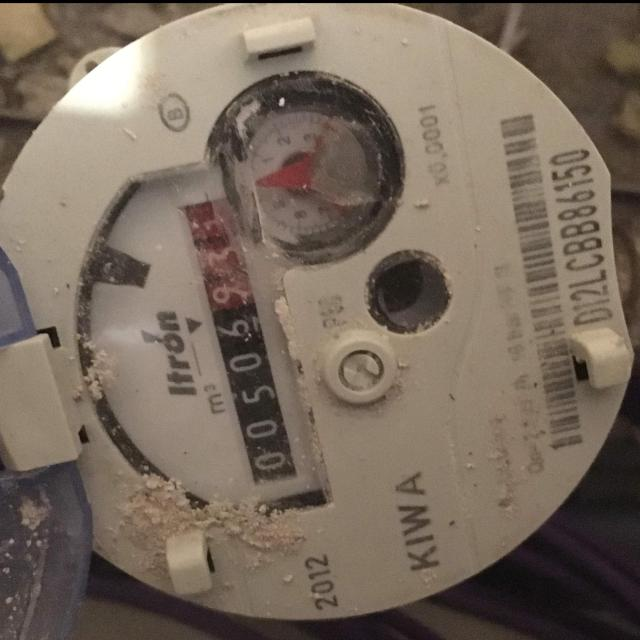gaz_meter: (0, 6, 632, 617)
indication: (178, 196, 300, 486)
